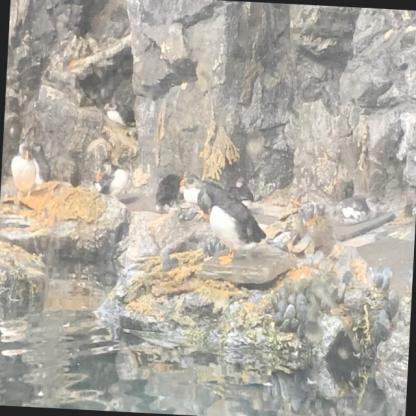puffin: (200, 189, 270, 271), (178, 174, 234, 217), (7, 140, 40, 202), (92, 159, 130, 202), (102, 98, 138, 131), (29, 140, 54, 187), (226, 176, 256, 213)
